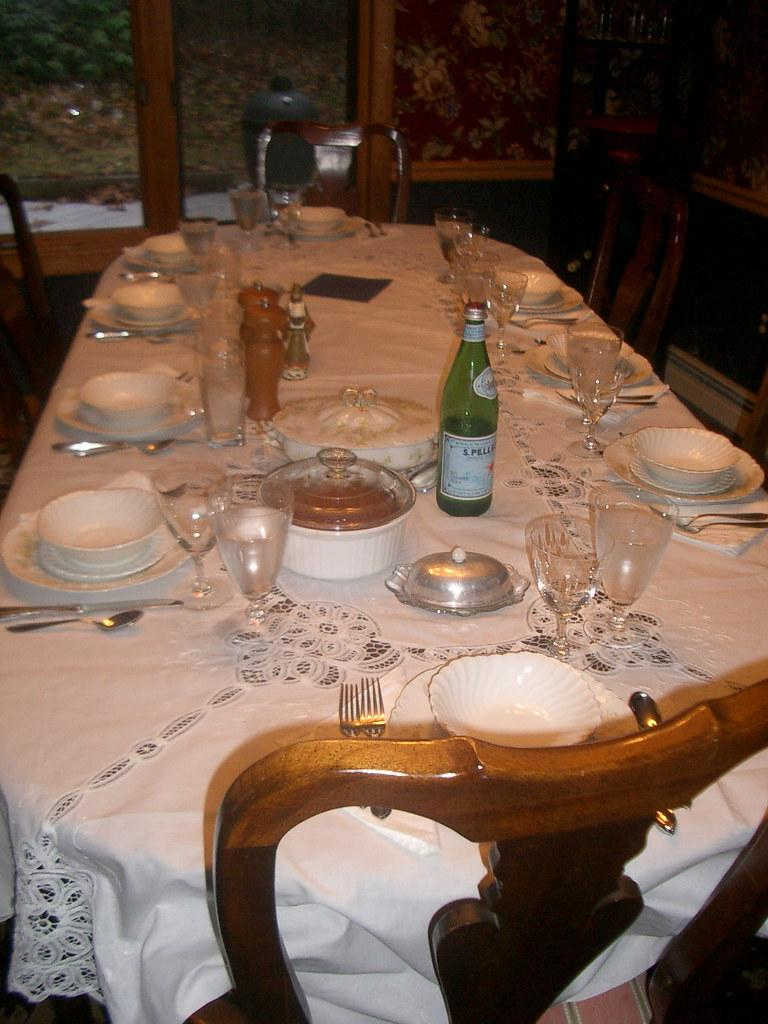table: (2, 174, 768, 1024)
